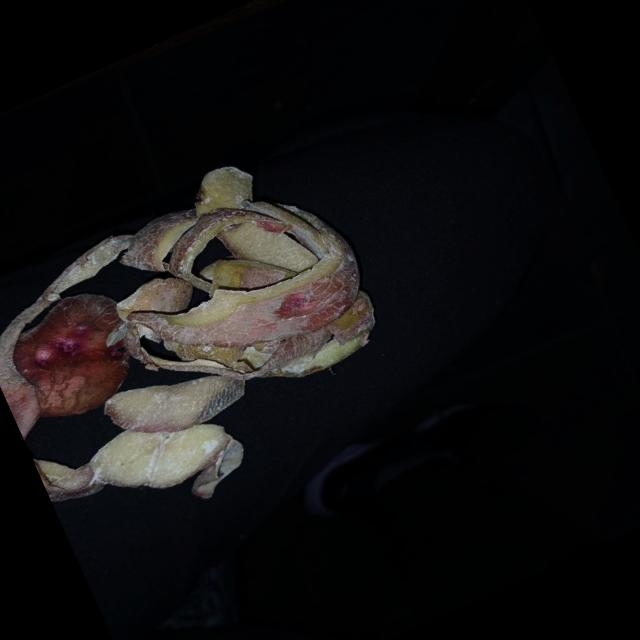organic: (0, 126, 421, 555)
